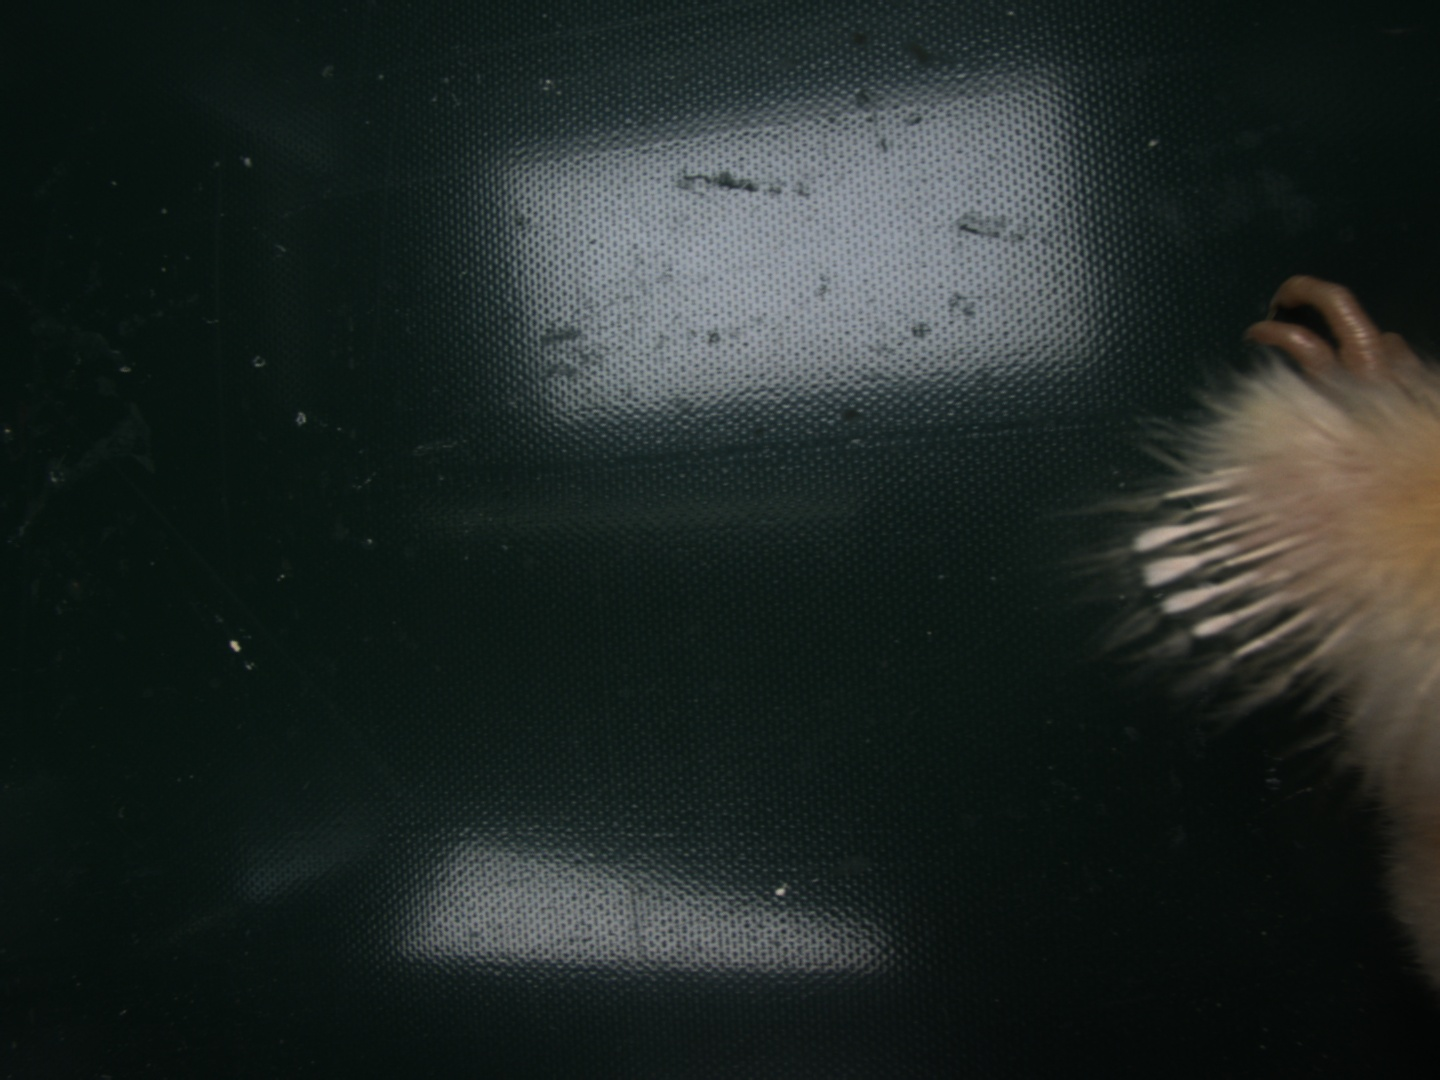female: (1123, 461, 1377, 695)
